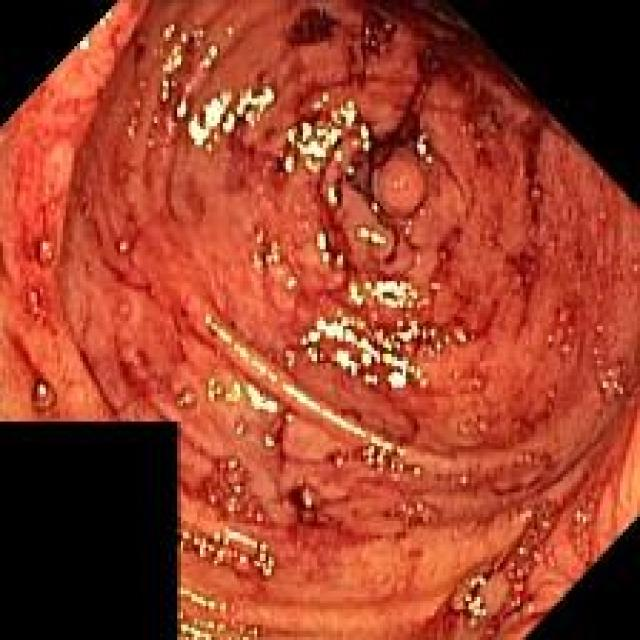Polyps: (374, 148, 426, 216)
